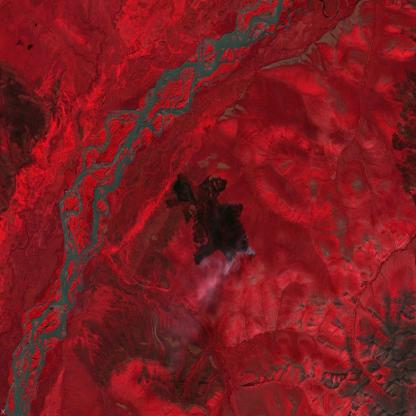fire: (216, 200, 258, 273)
